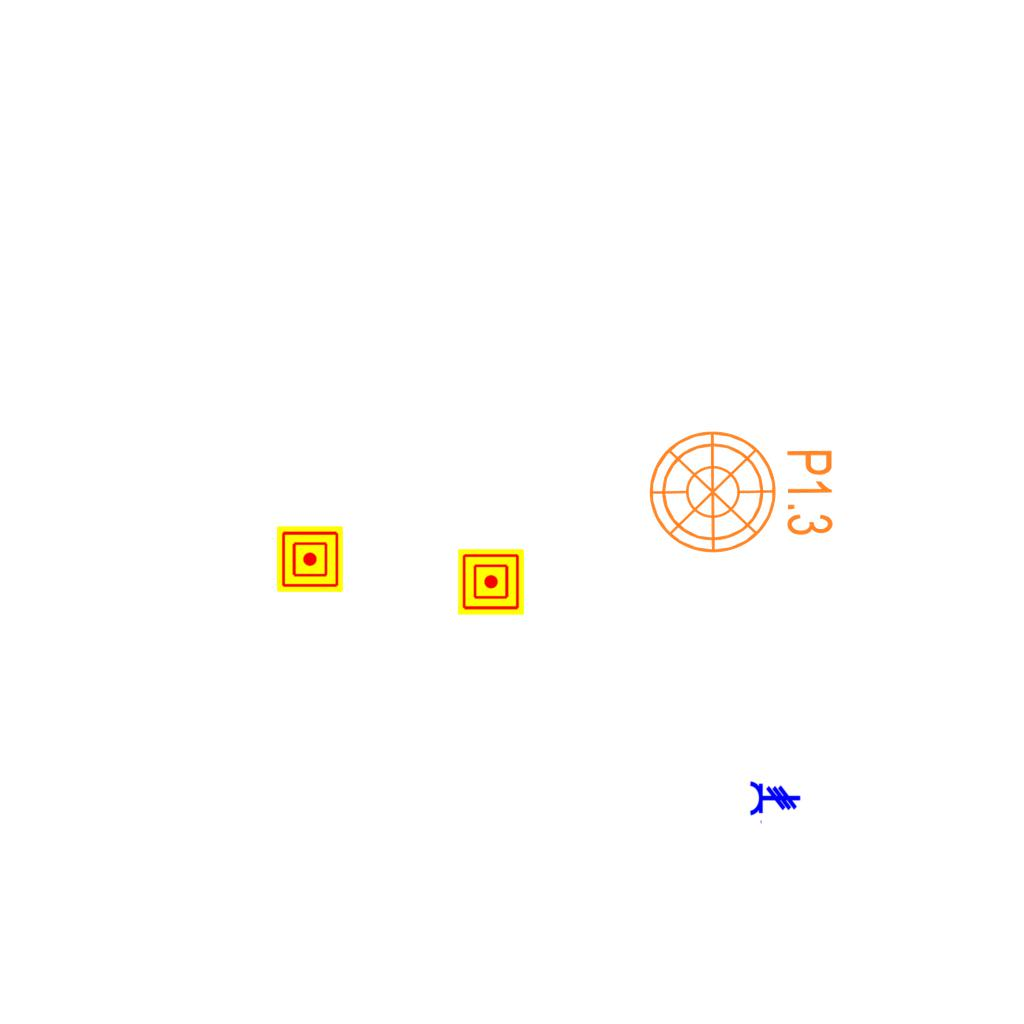Aufbaurundleuchte_LED_Treppenhaus: (646, 428, 851, 567)
CEE_Drehstrom_Steckdose_16_32_A: (749, 780, 801, 825)
NAM-Nichtautomatischer_Melder: (458, 549, 524, 615), (277, 526, 343, 592)
